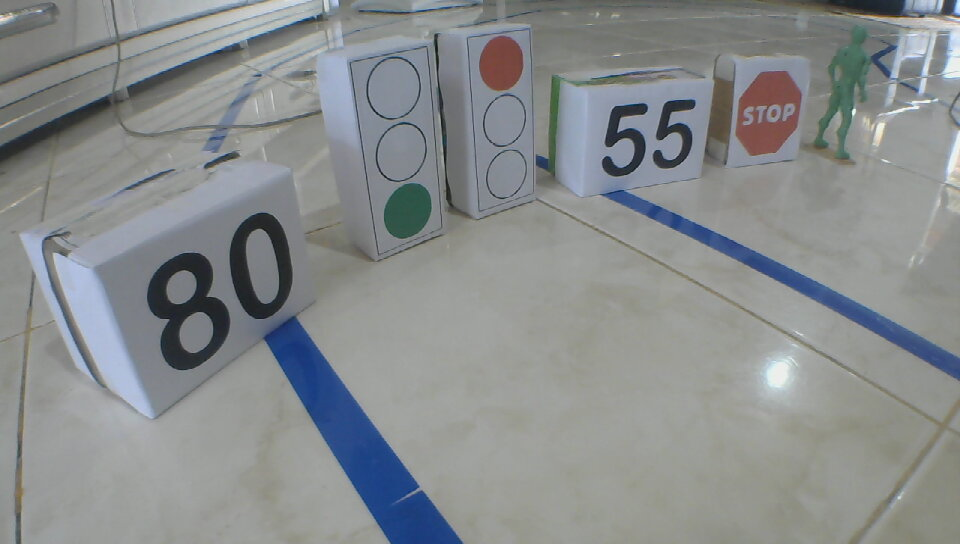Green Light: (363, 55, 434, 239)
Person: (807, 25, 877, 164)
Red Light: (475, 32, 529, 204)
Speed 55: (595, 95, 699, 180)
Speed 80: (145, 214, 296, 374)
Stop: (733, 68, 803, 154)
